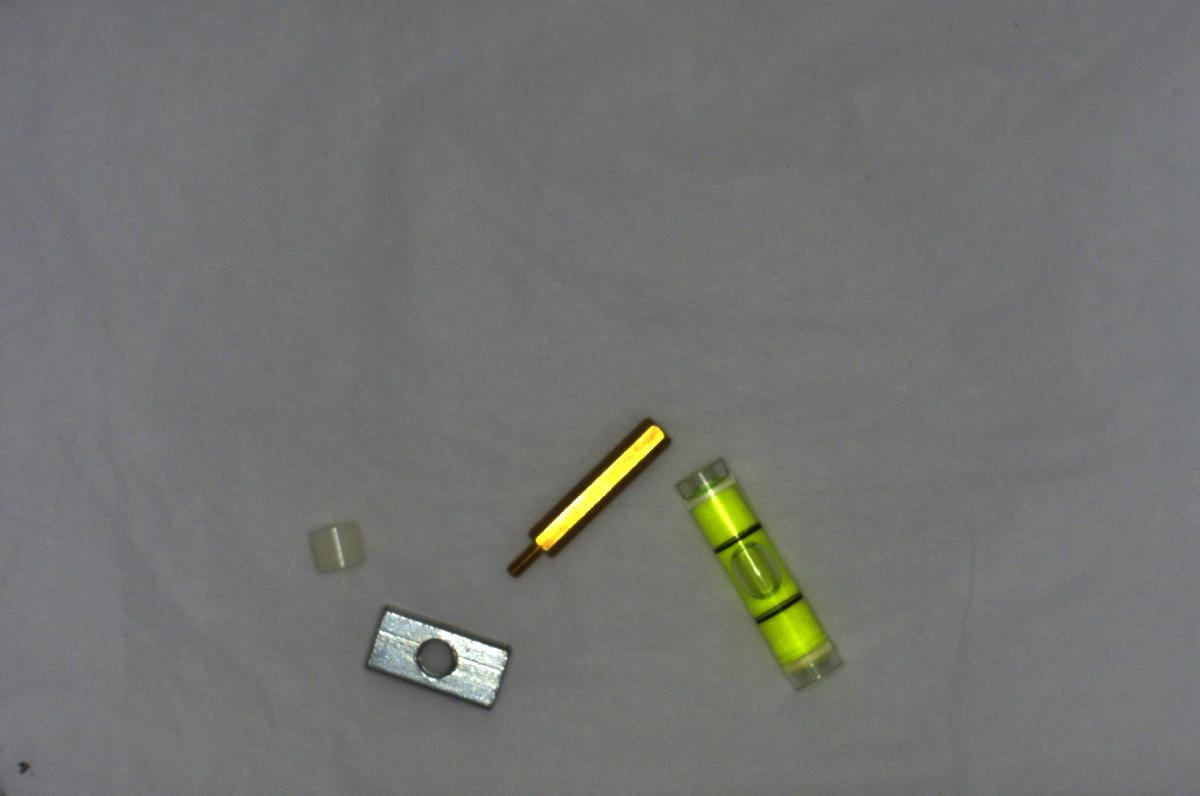Hexagon pillar: (506, 414, 670, 579)
Horizontal bubble: (674, 452, 850, 700)
Plastic cushion pillar: (294, 513, 375, 576)
Rectangular nut: (357, 603, 513, 710)
